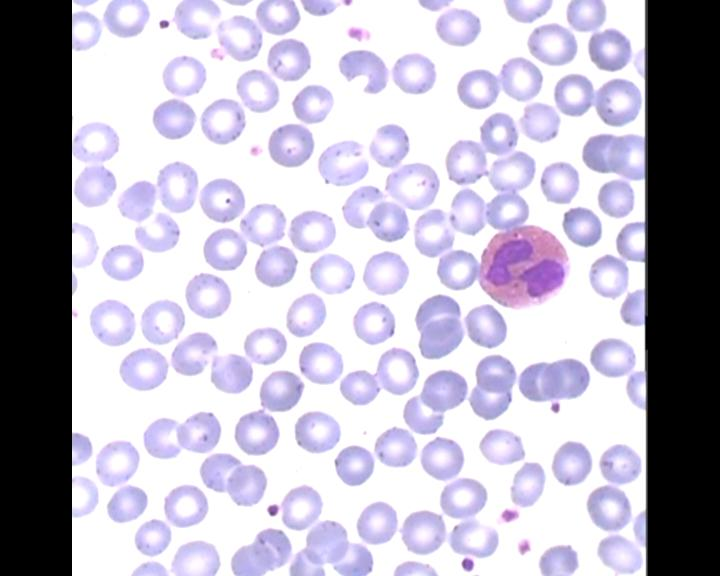eosi: (478, 225, 573, 310)
